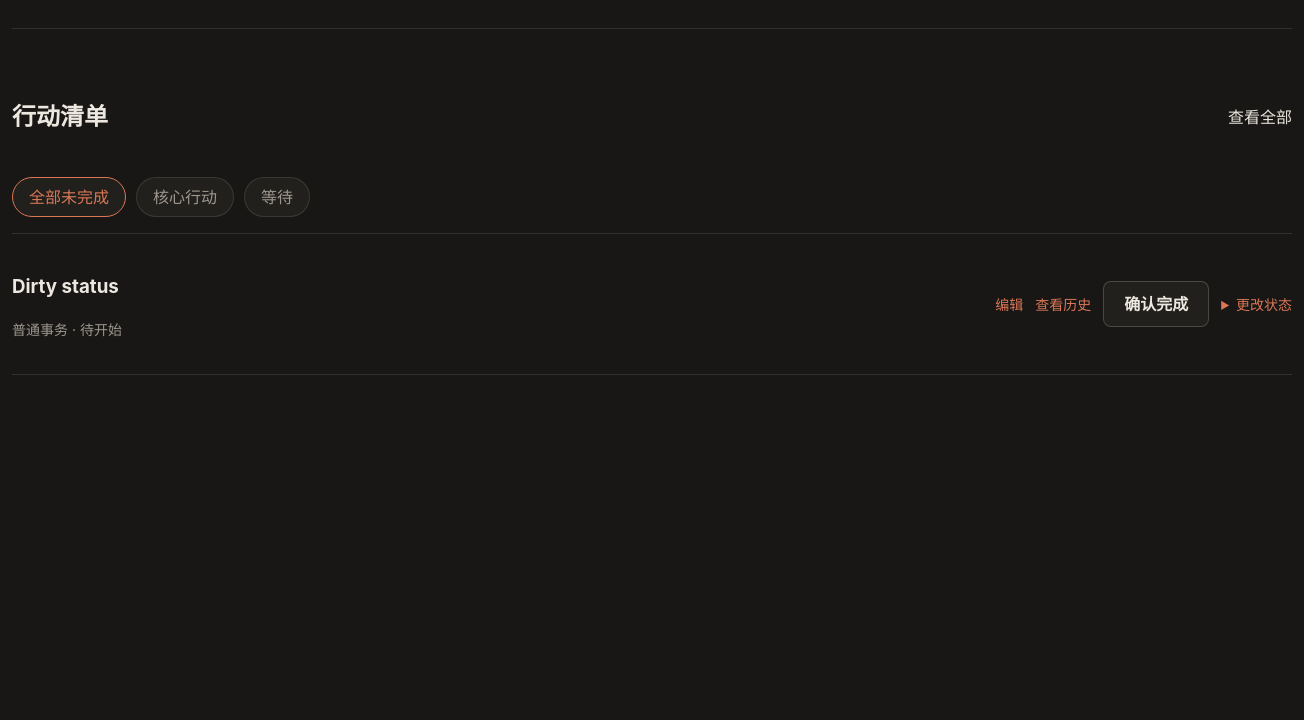
allows an explicitly discarded dirty row to leave the filter
Click the heading "更改状态" at (1264, 304), box left=1236, top=296, right=1292, bottom=313
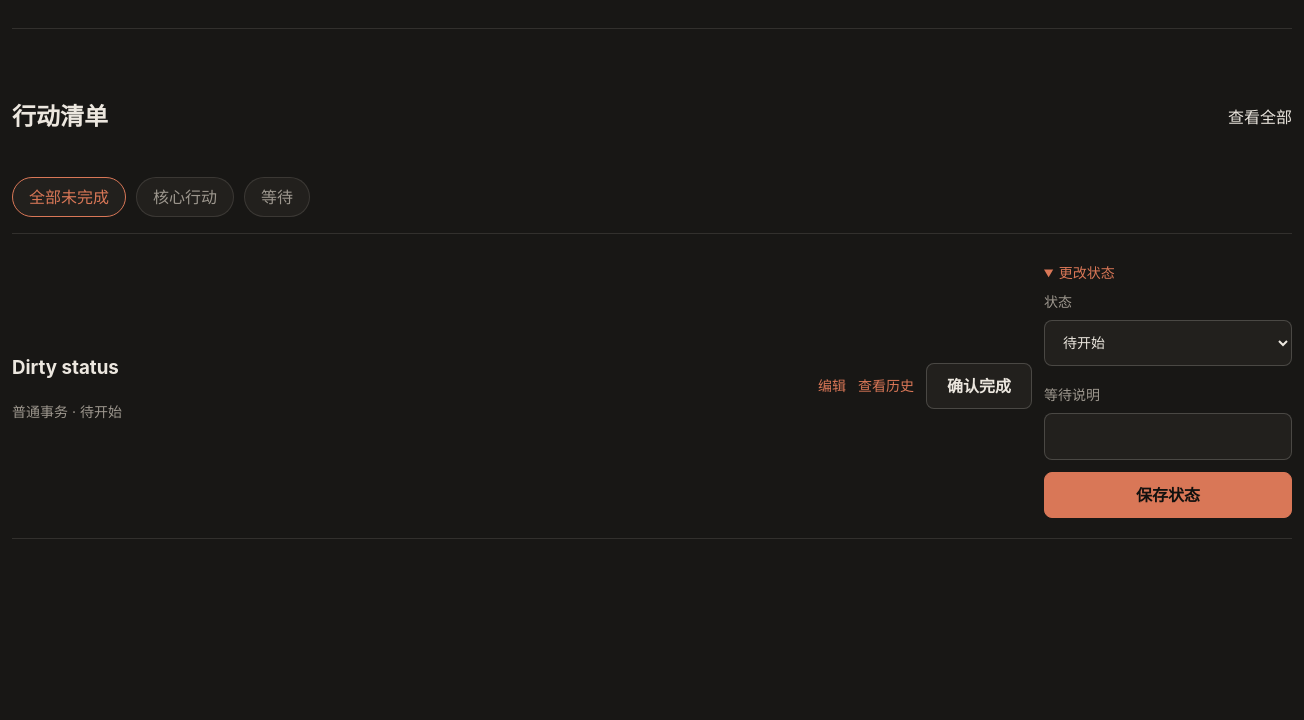
Type "Note" into the field labelled "等待说明" at (1168, 436), box left=1044, top=413, right=1292, bottom=460
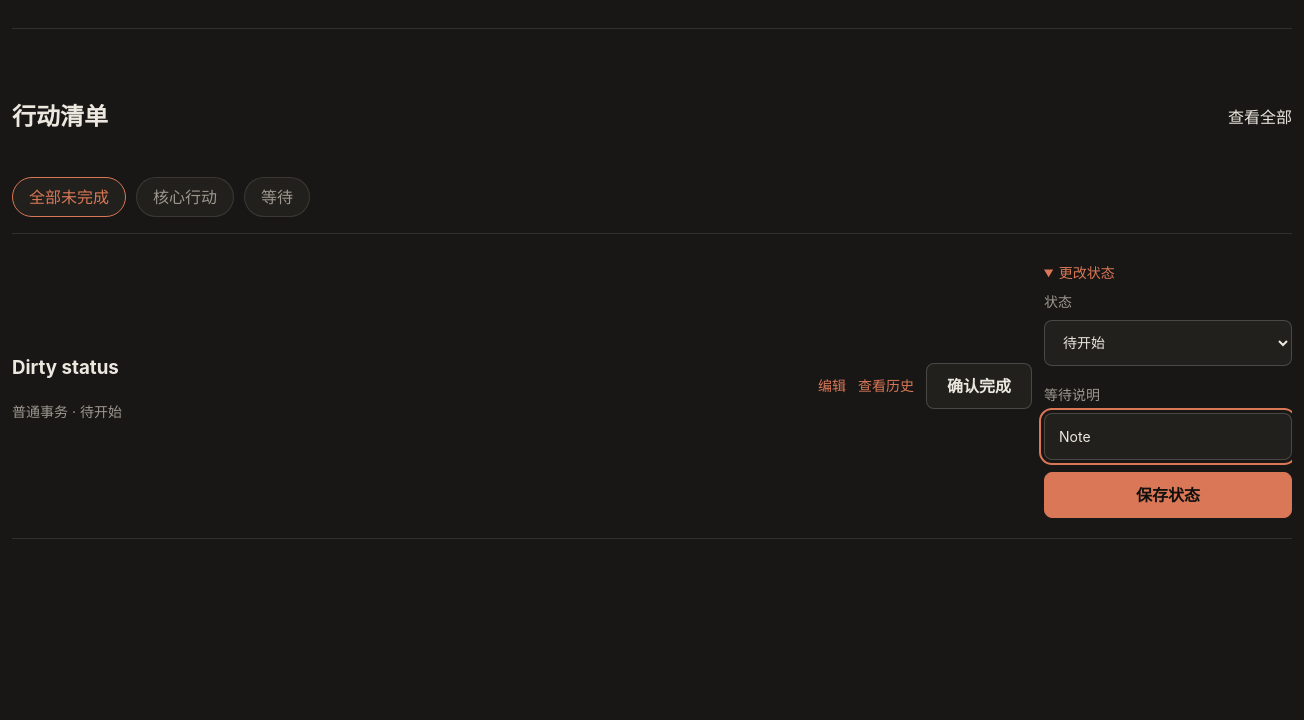
Click the button "等待" at (277, 197), box left=244, top=177, right=310, bottom=217
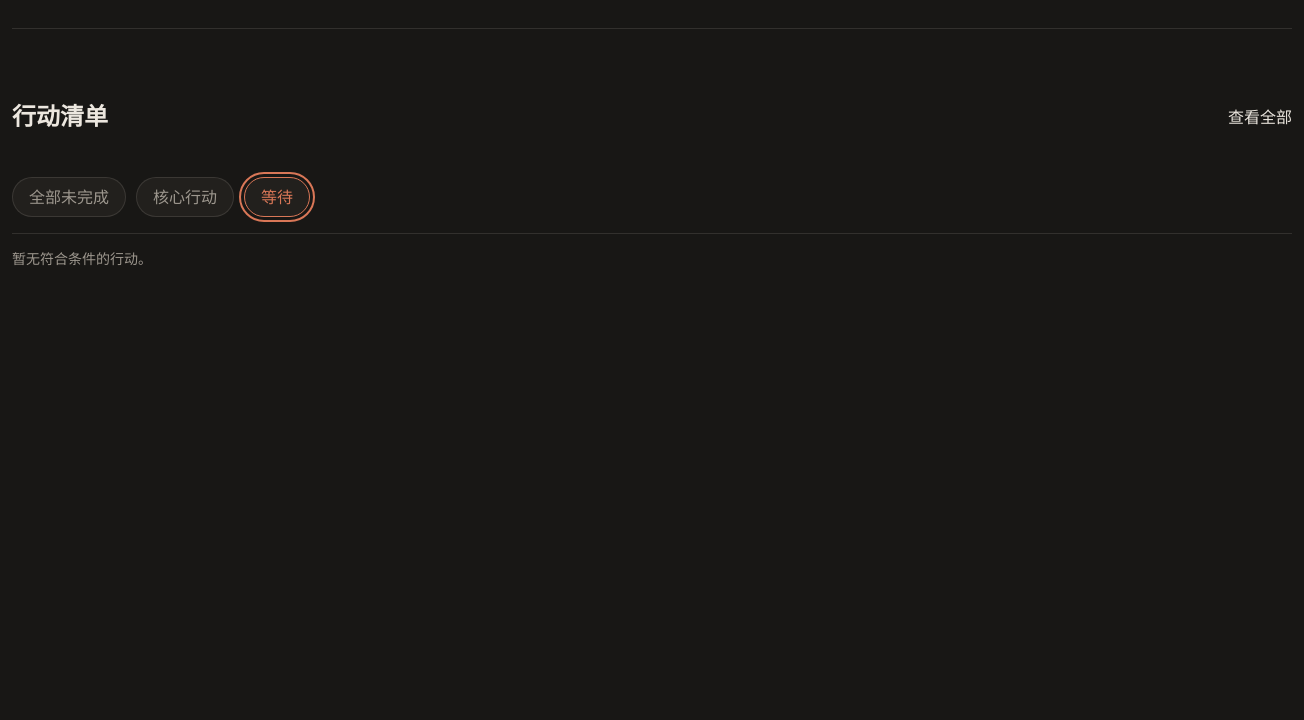
Expected: the link "Dirty status" is gone
